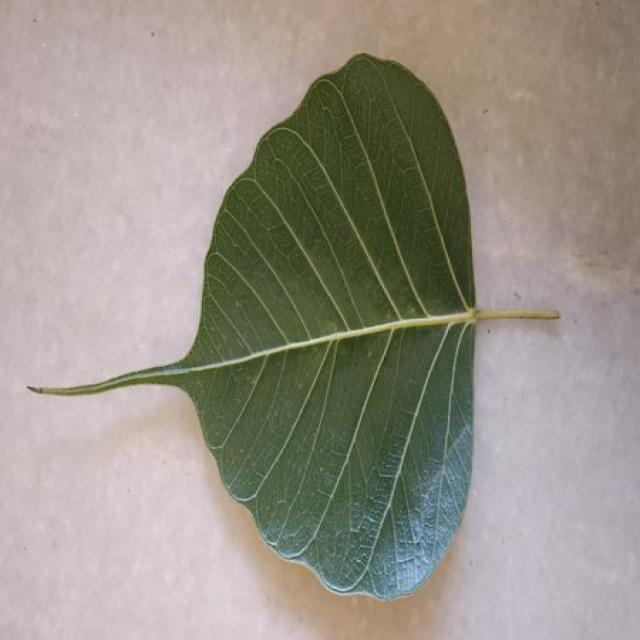arali: (36, 56, 547, 576)
